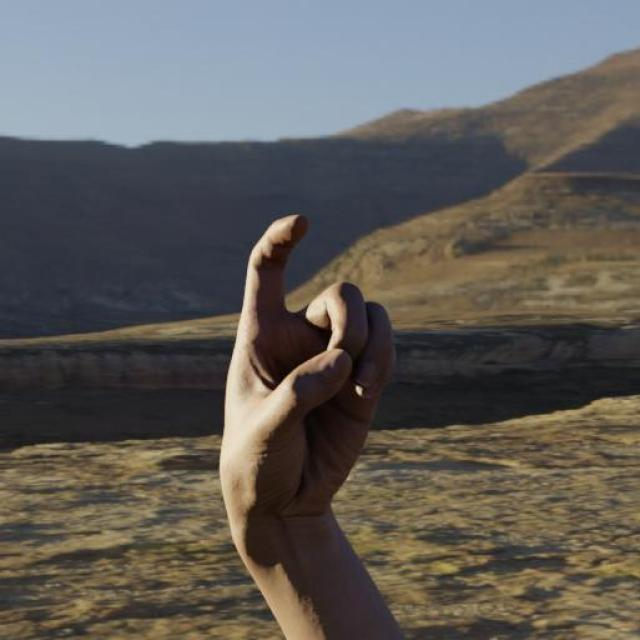X: (211, 202, 412, 576)
